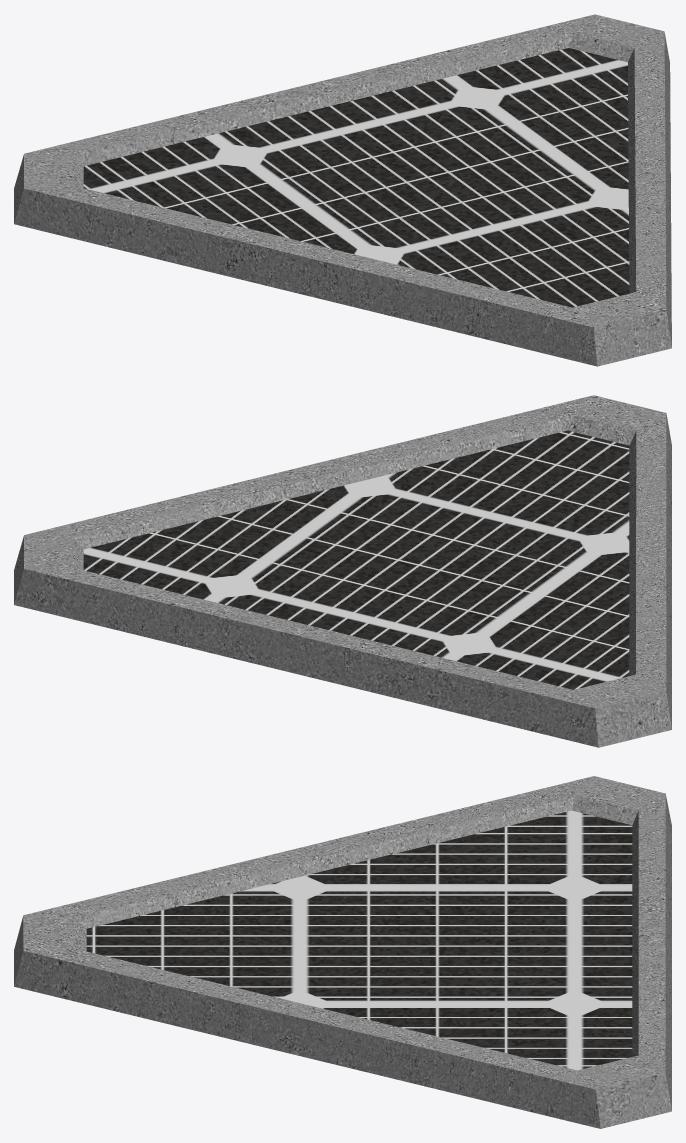
The model's file is FBX_SolarPanelTriangle.fbx.
3 renders of one model, top to bottom at view 1: azimuth 30°, elevation 25°; view 2: azimuth 150°, elevation 25°; view 3: azimuth 270°, elevation 25°, orthographic.
Visible parts, largest first — view 1: Triangle Solar Panel Export; view 2: Triangle Solar Panel Export; view 3: Triangle Solar Panel Export.
Boxes of the visible parts, left/top/right/bottom form: Triangle Solar Panel Export: left=14, top=14, right=671, bottom=366; Triangle Solar Panel Export: left=14, top=395, right=671, bottom=747; Triangle Solar Panel Export: left=14, top=776, right=671, bottom=1128.
Size of the model in its own units: 0.4333 by 0.3751 by 0.0223.
